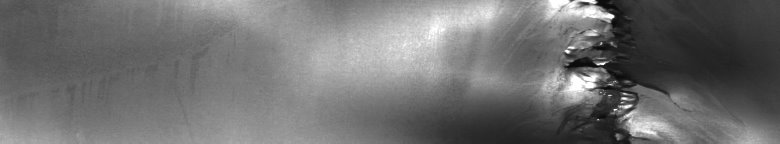ke: (560, 4, 672, 136)
